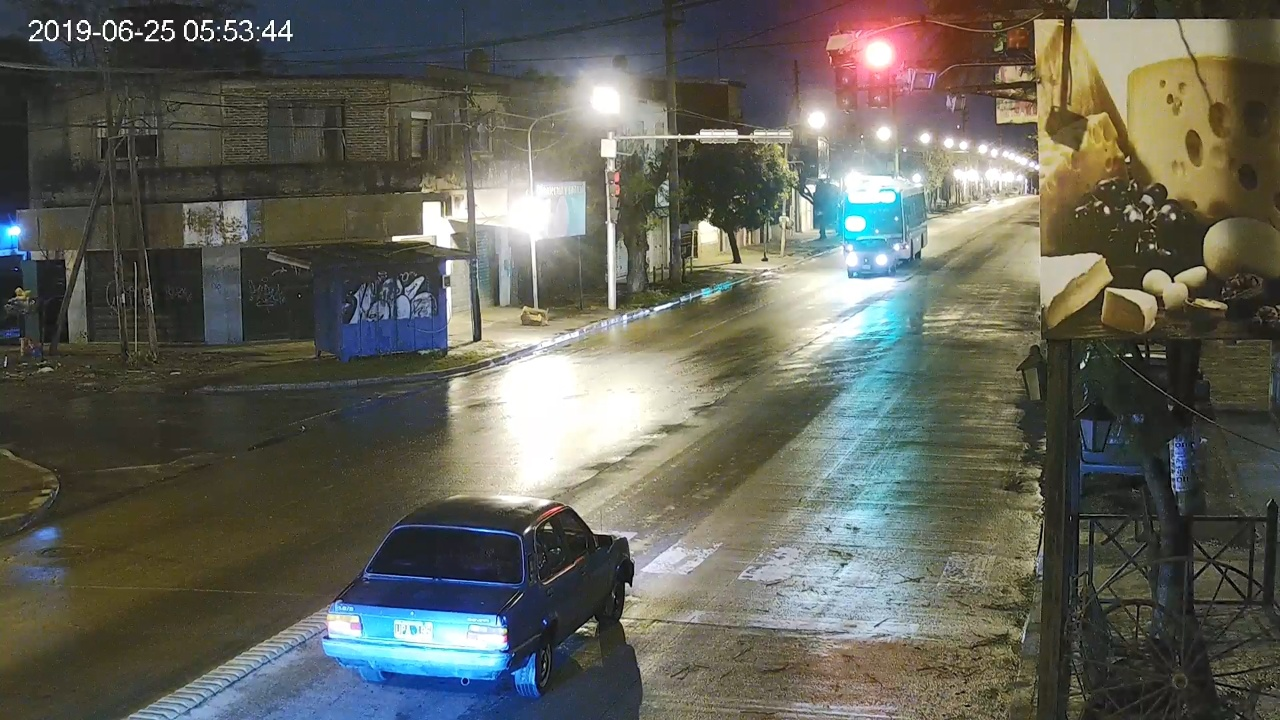car: (323, 493, 634, 696)
traffic light: (869, 44, 890, 107)
